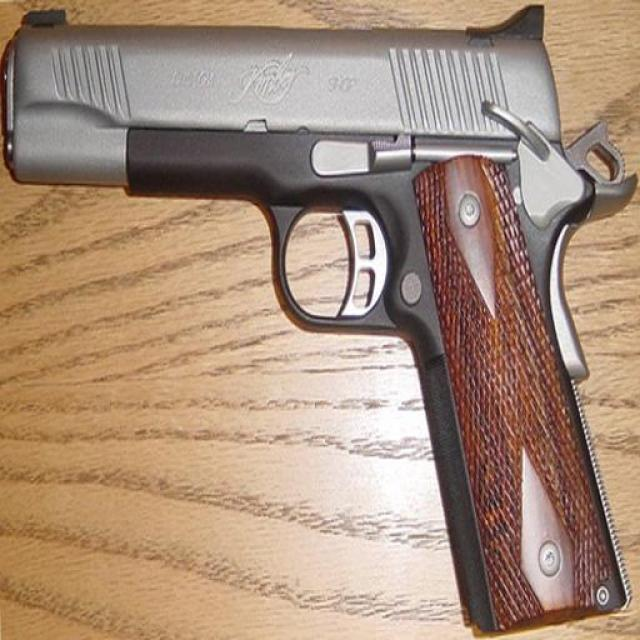pistol: (1, 9, 636, 631)
